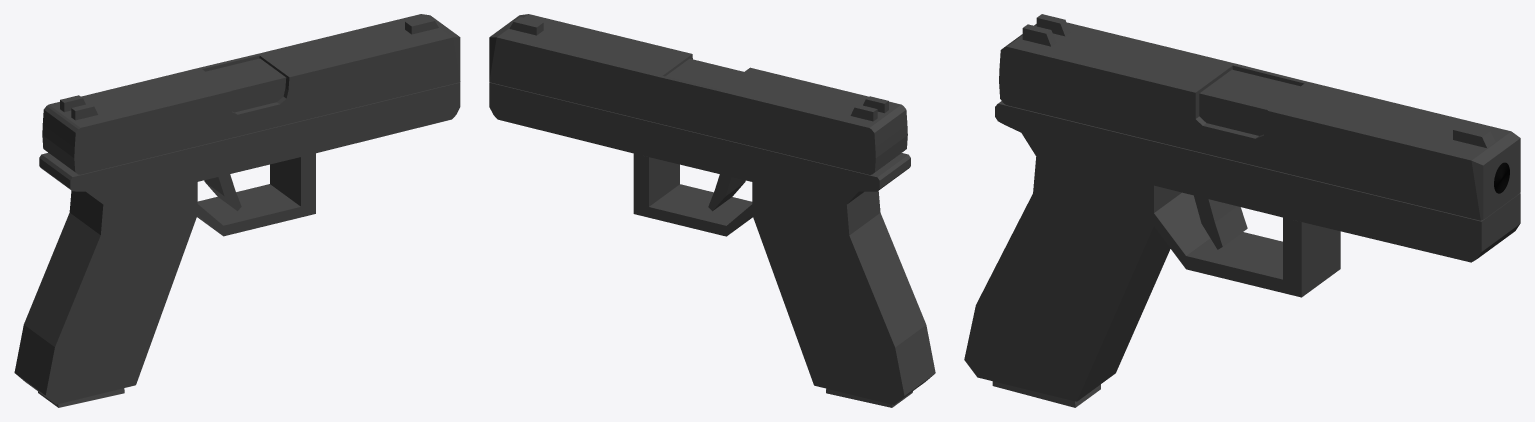
The model's file is G17PoliceVersion.fbx.
3 renders of one model, left to right at view 1: azimuth 30°, elevation 25°; view 2: azimuth 150°, elevation 25°; view 3: azimuth 330°, elevation 25°, orthographic. The views are drawn at different scales.
Visible parts, largest first — view 1: Cube.004, Cube.003, Cube.005; view 2: Cube.004, Cube.003, Cube.005; view 3: Cube.004, Cube.003, Cube.005, Cylindre.002.
Boxes of the visible parts, x1,y1,x2,y2 form: Cube.004: [14, 58, 460, 404]; Cube.003: [42, 14, 460, 174]; Cube.005: [204, 174, 241, 210]; Cube.004: [489, 58, 935, 404]; Cube.003: [489, 14, 907, 174]; Cube.005: [708, 174, 745, 211]; Cube.004: [964, 69, 1520, 401]; Cube.003: [999, 14, 1520, 220]; Cube.005: [1194, 195, 1247, 249]; Cylindre.002: [992, 381, 1100, 407].
Bounding box in the file's own units: 480 × 321 × 64.08.
3 materials, 3 textured.
